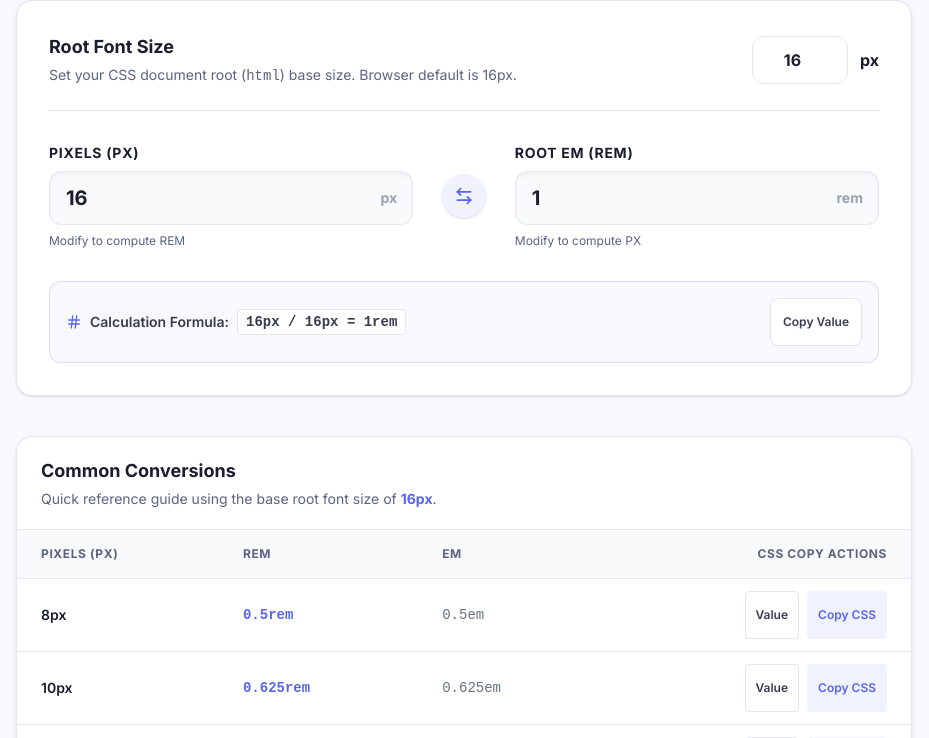
PxToRemConverter component › converts REM to PX correctly based on default 16px root font size
Replace the text in the field labelled "Root EM (REM)" with "1.5" at (697, 198), box left=515, top=171, right=879, bottom=225
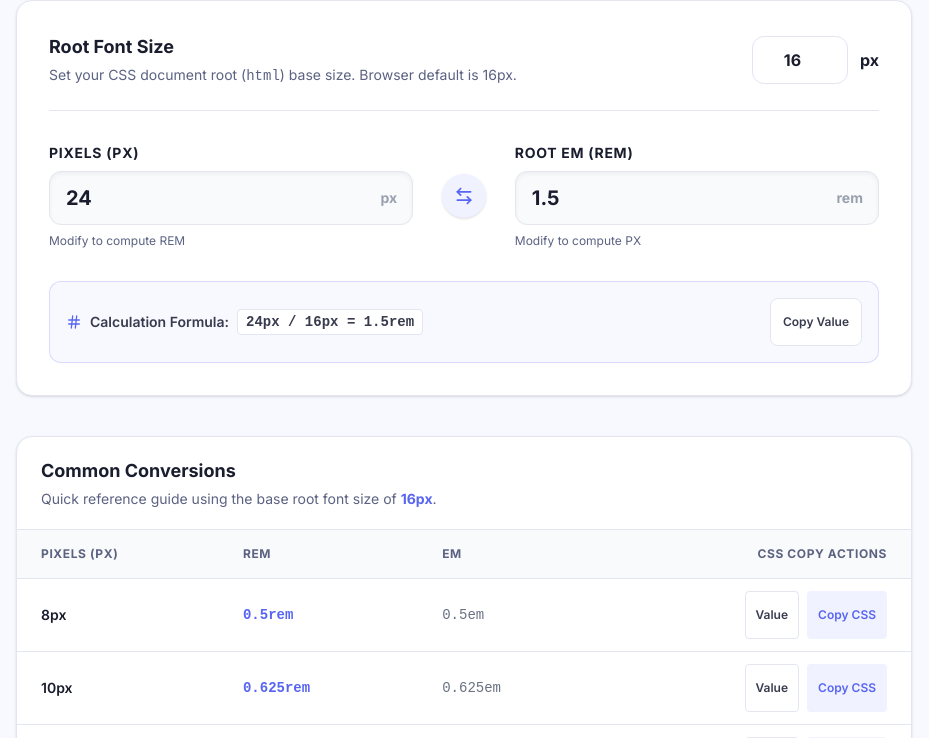
Expected: the field labelled "Pixels (PX)" holds "24", left=49, top=171, right=413, bottom=225
